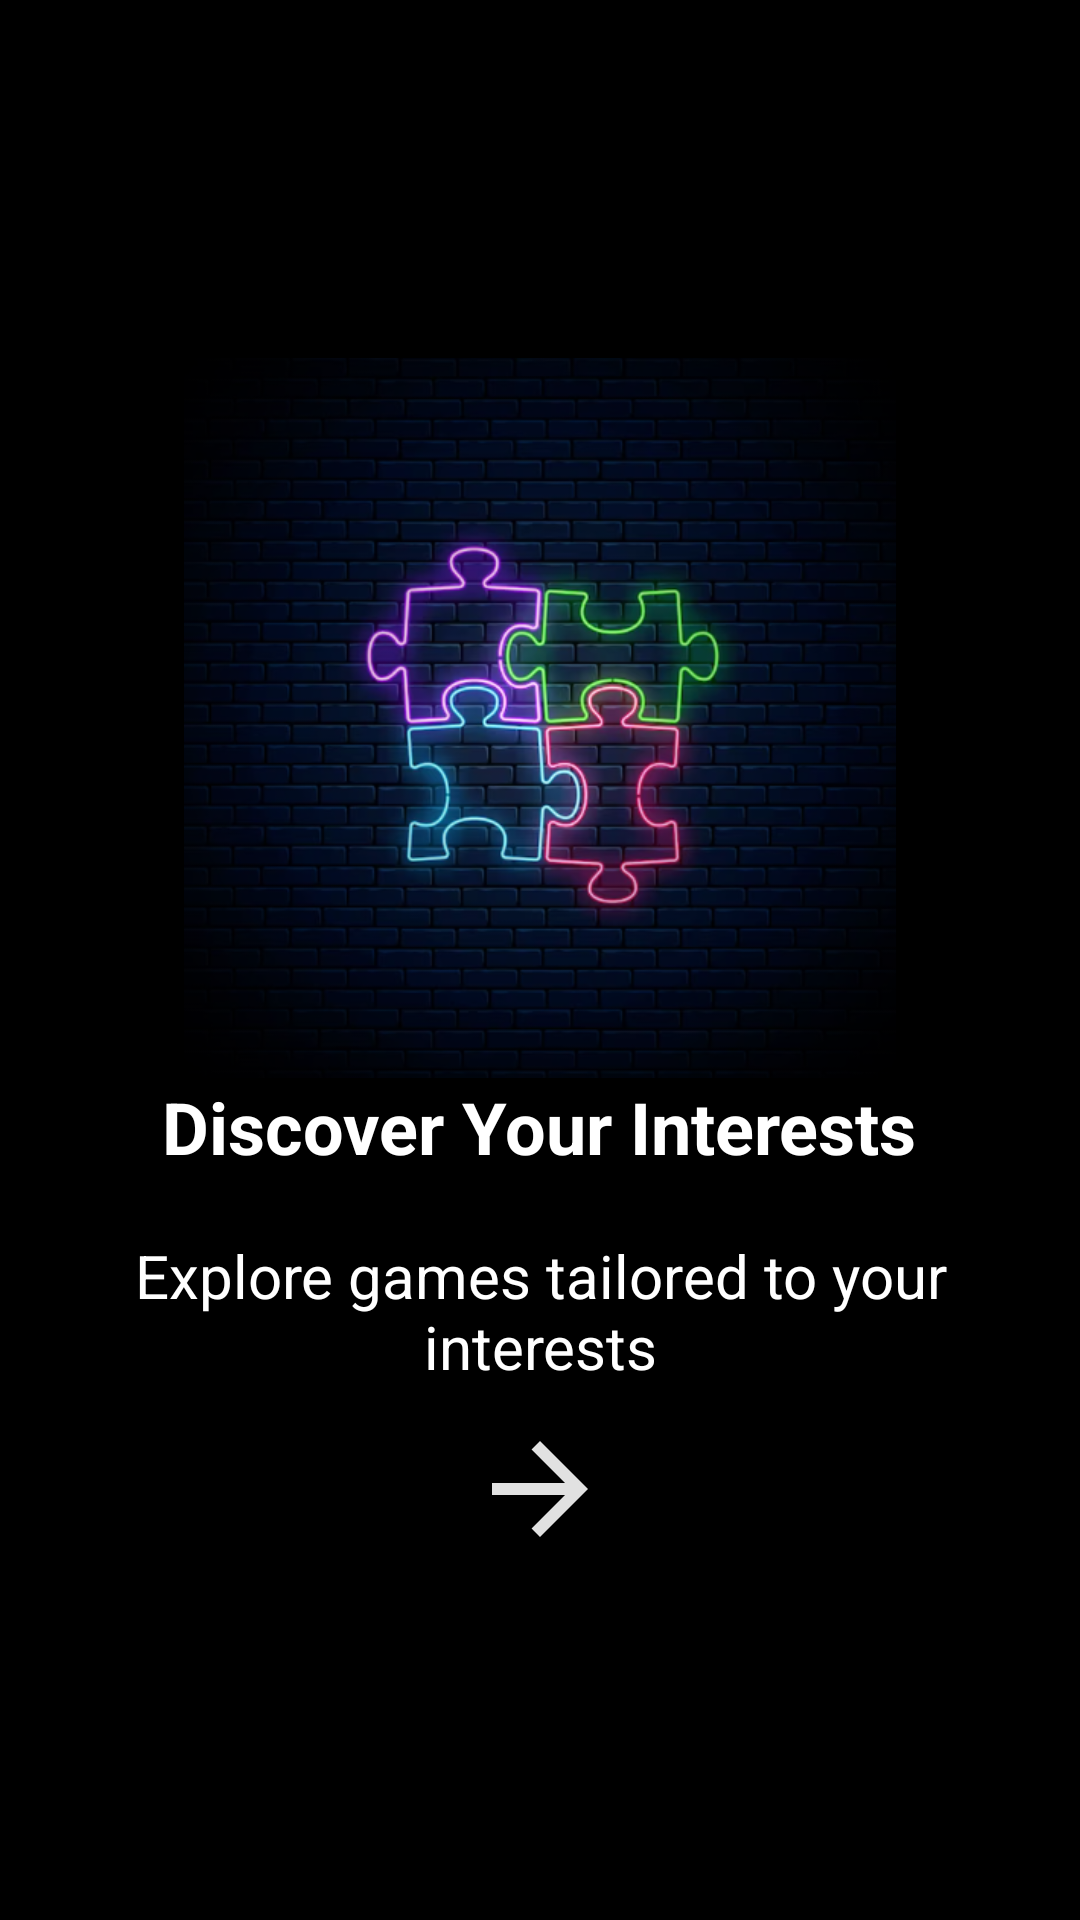

Named icons in this screenshot (1080×1920) and their bounding boxes, (x1, y1, x2, y2):
arrow forward: (492, 1441, 588, 1537)
